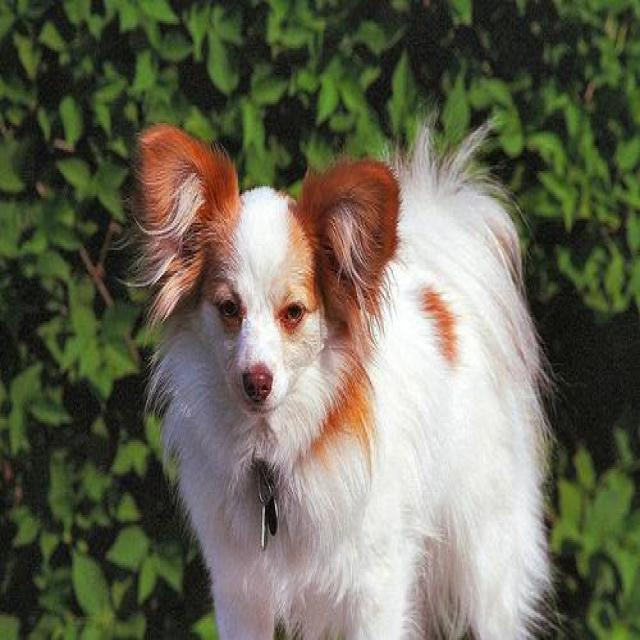papillon: (134, 117, 544, 638)
